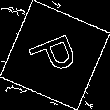P_E: (25, 28, 85, 82)
